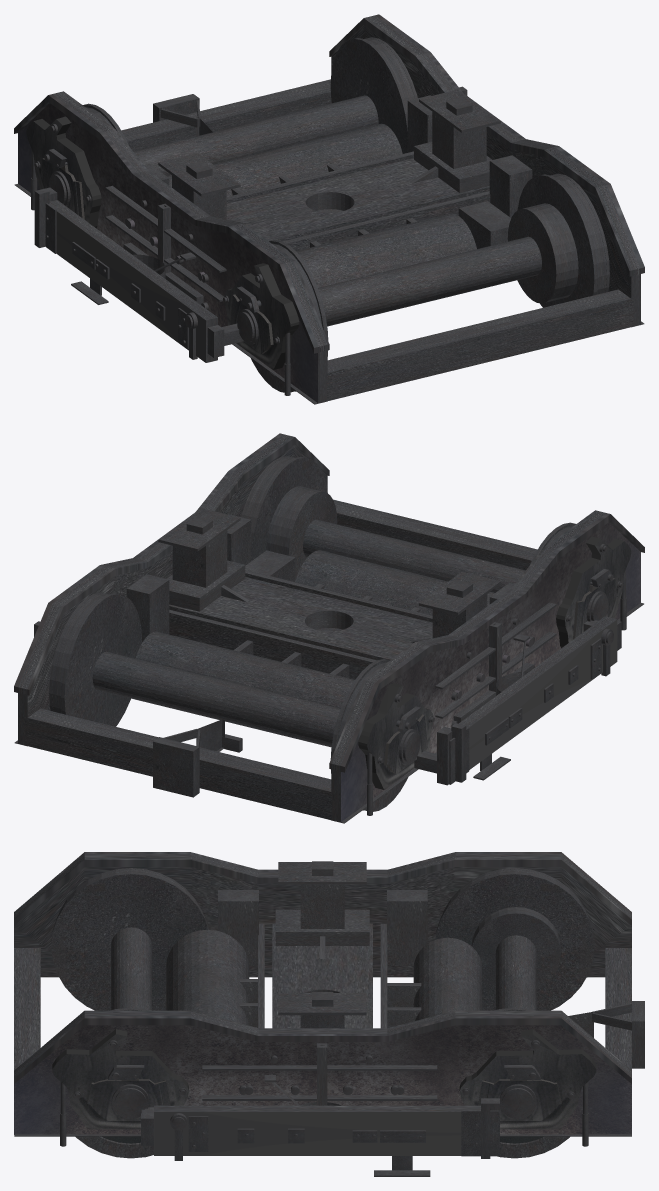
Rendered from london_underground_1972_bogie.obj.
The picture shows the model from 3 angles, top to bottom: view 1: azimuth 30°, elevation 25°; view 2: azimuth 150°, elevation 25°; view 3: azimuth 270°, elevation 25°; orthographic projection. The views are drawn at different scales.
Visible parts, largest first — view 1: middle_core, shield_side_right, bogie_wheels_back, outer_cover, bogie_wheels_front, 3rd_rail_right, shield_side_left, movement_spring_left, shield_inner, back_r_bogie_c_main, front_r_bogie_c_main, l_movement_spring_2 (+8 smaller); view 2: middle_core, shield_side_right, bogie_wheels_front, outer_cover, bogie_wheels_back, 3rd_rail_right, shield_side_left, end_outer, movement_spring_left, shield_inner, front_r_bogie_c_main, back_r_bogie_c_main (+9 smaller); view 3: shield_side_left, shield_side_right, middle_core, 3rd_rail_left, bogie_wheels_back, bogie_wheels_front, outer_cover, front_l_bogie_c_main, shield_inner, back_l_bogie_c_main, movement_spring_right, bogie_wheel_p_car (+10 smaller).
Boxes of the visible parts, bbox=[...] form: middle_core: bbox=[167, 123, 510, 287]; shield_side_right: bbox=[14, 91, 329, 404]; bogie_wheels_back: bbox=[251, 173, 609, 392]; outer_cover: bbox=[121, 79, 633, 401]; bogie_wheels_front: bbox=[83, 37, 417, 175]; 3rd_rail_right: bbox=[34, 187, 243, 362]; shield_side_left: bbox=[329, 14, 644, 327]; movement_spring_left: bbox=[414, 89, 500, 192]; shield_inner: bbox=[144, 95, 532, 217]; back_r_bogie_c_main: bbox=[224, 263, 299, 369]; front_r_bogie_c_main: bbox=[26, 116, 101, 228]; l_movement_spring_2: bbox=[432, 112, 486, 168]; middle_core: bbox=[135, 550, 494, 708]; shield_side_right: bbox=[329, 510, 644, 823]; bogie_wheels_front: bbox=[50, 592, 408, 811]; outer_cover: bbox=[25, 499, 537, 820]; bogie_wheels_back: bbox=[241, 456, 575, 592]; 3rd_rail_right: bbox=[414, 616, 621, 785]; shield_side_left: bbox=[14, 433, 329, 745]; end_outer: bbox=[153, 719, 242, 797]; movement_spring_left: bbox=[158, 508, 245, 611]; shield_inner: bbox=[126, 514, 514, 642]; front_r_bogie_c_main: bbox=[358, 683, 433, 789]; back_r_bogie_c_main: bbox=[556, 536, 631, 648]; shield_side_left: bbox=[14, 1010, 631, 1136]; shield_side_right: bbox=[14, 852, 631, 977]; middle_core: bbox=[166, 923, 482, 1028]; 3rd_rail_left: bbox=[141, 1098, 499, 1176]; bogie_wheels_back: bbox=[51, 868, 208, 1158]; bogie_wheels_front: bbox=[435, 868, 594, 1158]; outer_cover: bbox=[14, 948, 631, 1070]; front_l_bogie_c_main: bbox=[459, 1029, 596, 1129]; shield_inner: bbox=[218, 890, 427, 965]; back_l_bogie_c_main: bbox=[52, 1029, 188, 1129]; movement_spring_right: bbox=[275, 862, 369, 945]; bogie_wheel_p_car: bbox=[54, 869, 573, 1153].
Size of the model in its own units: 2.23 by 0.7492 by 2.77.
11 materials, 11 textured.
